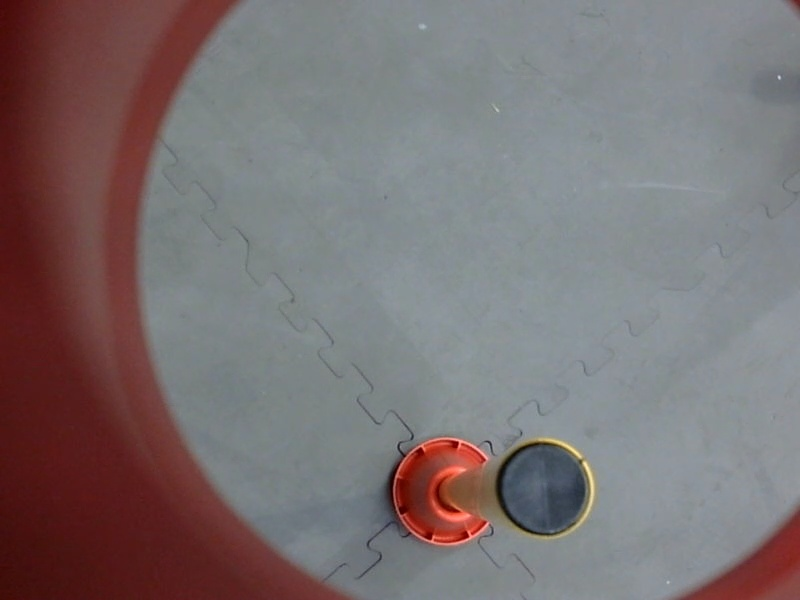tip: (486, 432, 602, 545)
